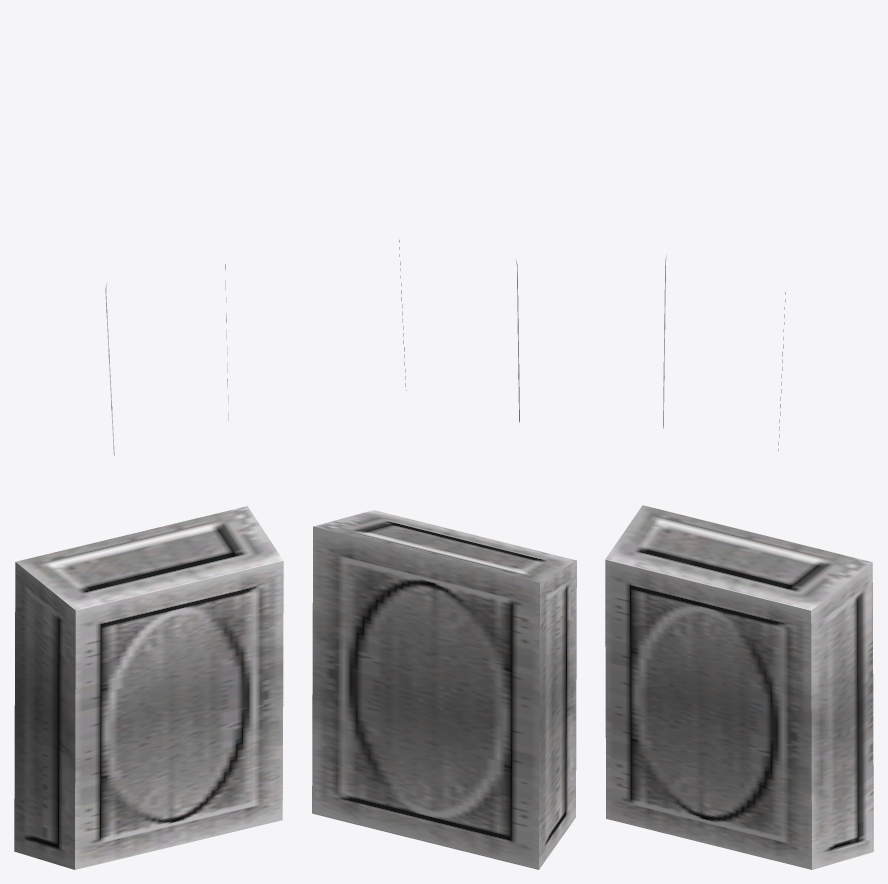
Rendered from earring_s03_l1.fbx.
3 views of the same model, side by side, from view 1: azimuth 30°, elevation 25°; view 2: azimuth 150°, elevation 25°; view 3: azimuth 330°, elevation 25° (orthographic).
Parts seen in each view (by area): view 1: mesh_node; view 2: mesh_node; view 3: mesh_node.
Boxes of the visible parts, bbox=[...] form: mesh_node: bbox=[14, 264, 283, 869]; mesh_node: bbox=[312, 240, 576, 869]; mesh_node: bbox=[605, 255, 873, 869].
Size of the model in its own units: 0.0229 by 0.0779 by 0.00872.
